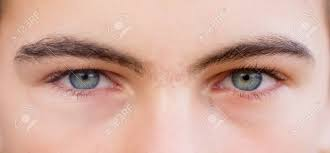pupil: (232, 70, 261, 90), (69, 70, 99, 88)
